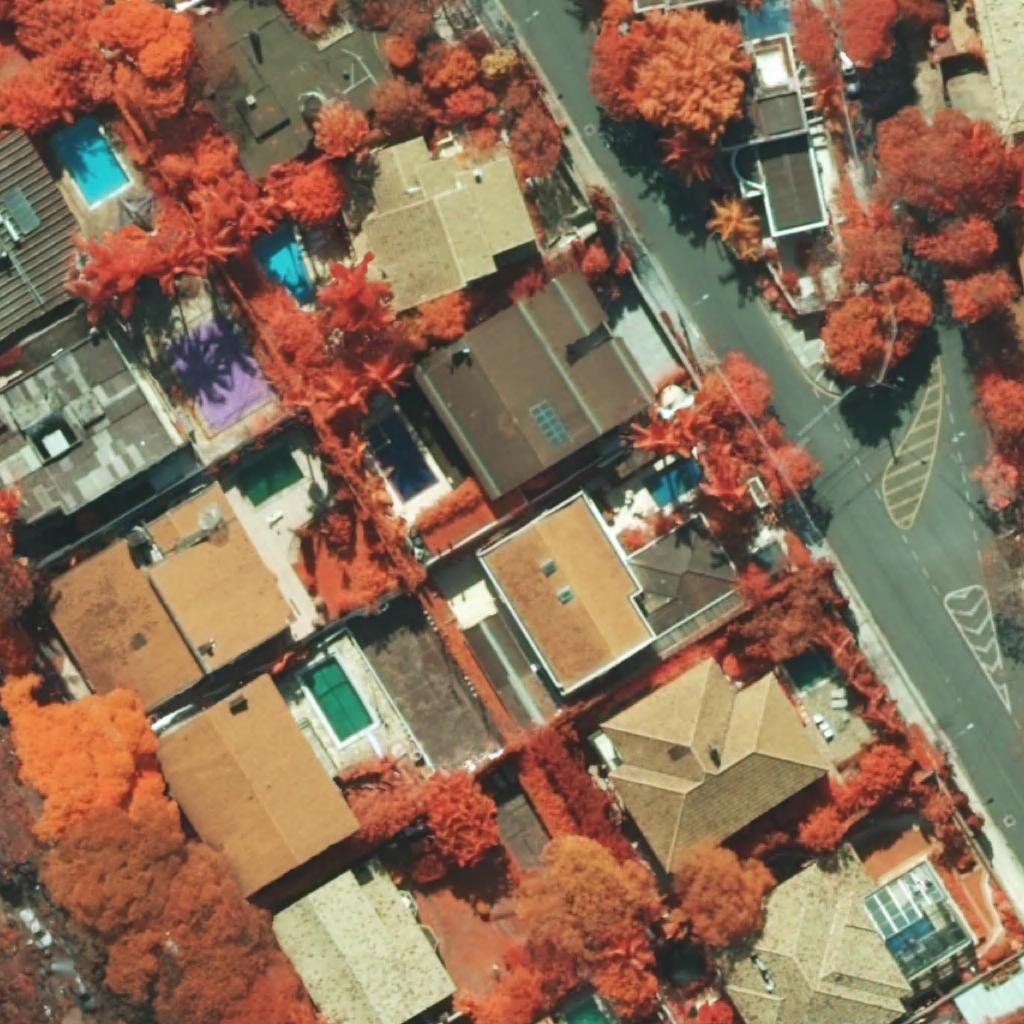pool: (47, 118, 130, 206), (300, 655, 375, 743), (373, 413, 439, 504), (254, 225, 316, 306), (235, 445, 304, 508), (642, 454, 701, 508), (782, 648, 836, 692), (885, 916, 936, 955), (564, 997, 610, 1024)
